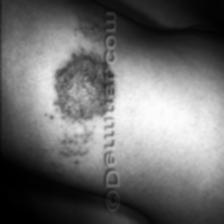Non-Cancerous Skin Condition: (54, 52, 114, 120)
